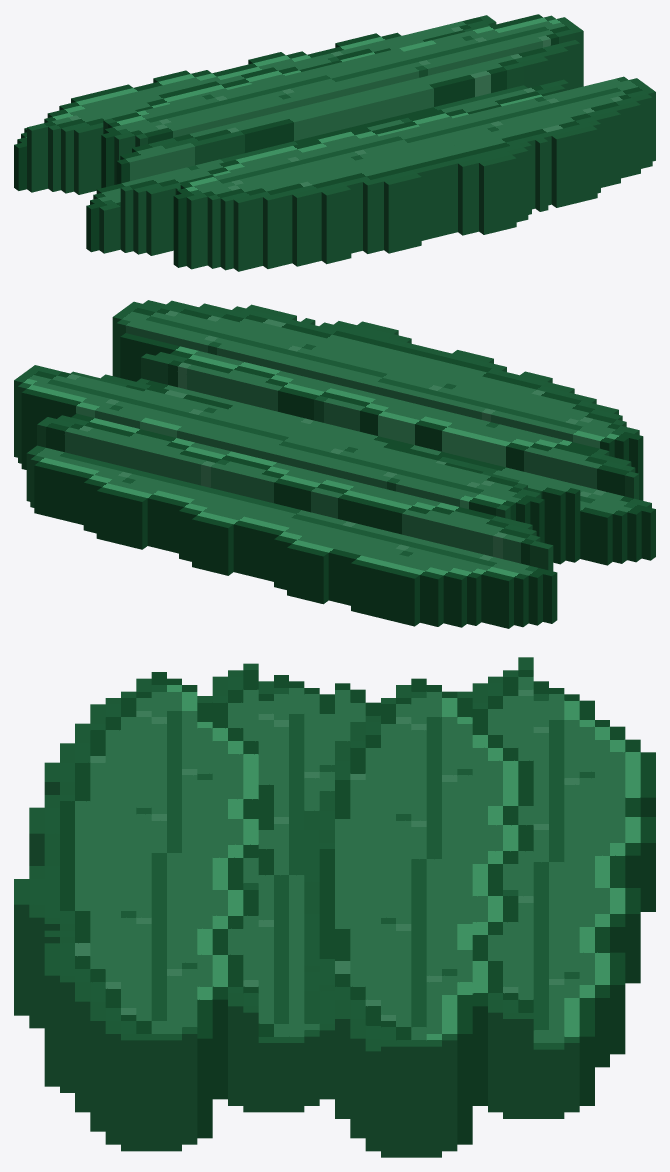
Rendered from Seaweed_model.fbx.
The picture shows the model from 3 angles, top to bottom: view 1: azimuth 30°, elevation 25°; view 2: azimuth 150°, elevation 25°; view 3: azimuth 270°, elevation 25°; orthographic projection. The views are drawn at different scales.
Visible parts, largest first — view 1: Seaweed_0; view 2: Seaweed_0; view 3: Seaweed_0.
Boxes of the visible parts, x1=… form: Seaweed_0: x1=14, y1=14, x2=655, y2=271; Seaweed_0: x1=14, y1=300, x2=655, y2=628; Seaweed_0: x1=14, y1=657, x2=655, y2=1157.
Size of the model in its own units: 100 by 12.5 by 65.62.
1 material, 1 textured.
